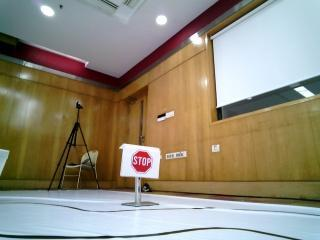stop: (117, 149, 162, 177)
